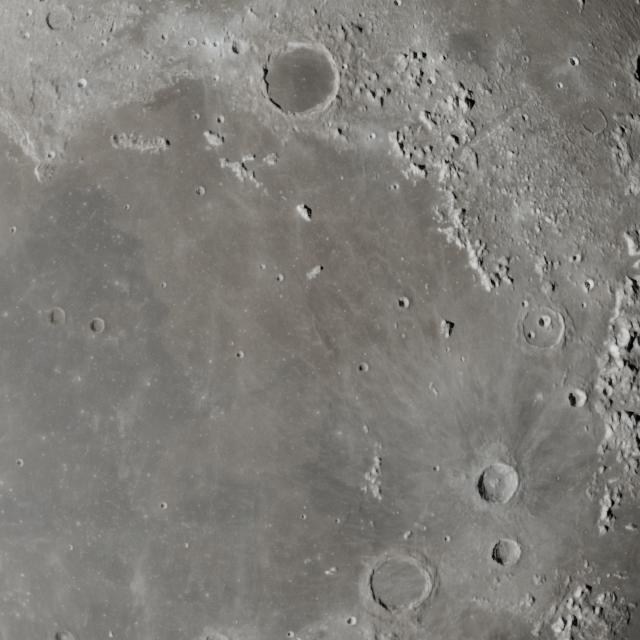crater: (262, 42, 340, 116), (368, 552, 434, 614), (477, 463, 520, 505), (521, 308, 562, 350), (491, 537, 522, 567), (580, 108, 608, 134), (611, 316, 633, 348), (45, 7, 71, 31), (567, 388, 587, 408), (39, 162, 58, 180), (49, 307, 66, 325), (626, 274, 640, 291), (90, 318, 105, 333), (538, 315, 552, 329), (533, 574, 546, 586), (524, 594, 535, 608), (398, 296, 409, 308), (76, 78, 88, 89), (200, 37, 212, 48), (584, 278, 594, 291), (358, 362, 369, 372), (569, 56, 579, 66), (195, 186, 205, 196), (187, 37, 197, 47), (346, 616, 356, 626), (110, 134, 120, 144), (571, 254, 581, 263), (15, 458, 24, 468), (526, 330, 535, 340), (73, 374, 82, 384), (520, 299, 529, 308), (390, 182, 400, 190), (216, 115, 224, 124), (46, 151, 55, 159), (212, 74, 220, 83), (236, 350, 244, 359), (522, 56, 530, 64), (520, 113, 528, 121), (556, 82, 564, 90), (160, 502, 168, 510), (100, 39, 108, 47), (132, 63, 140, 71), (276, 274, 284, 282), (598, 466, 606, 474), (443, 535, 451, 543), (10, 226, 17, 234), (193, 112, 200, 120), (160, 281, 167, 288), (124, 203, 130, 210)
